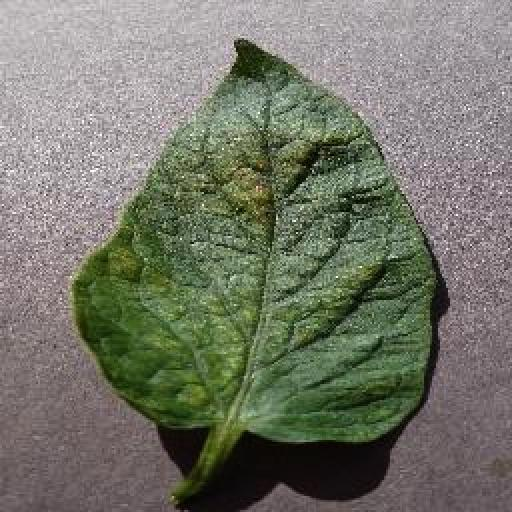disease_tomato: (73, 38, 439, 444)
